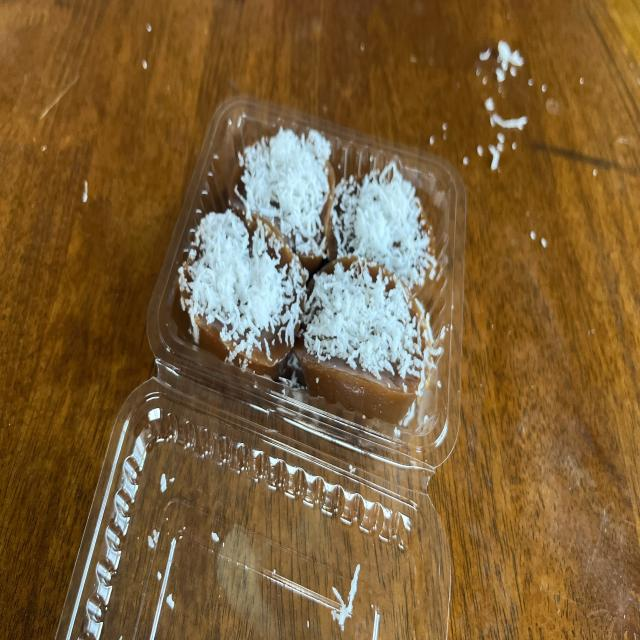Kuih lompang: (294, 256, 442, 422), (179, 209, 308, 376), (231, 127, 335, 276), (331, 162, 434, 289)
